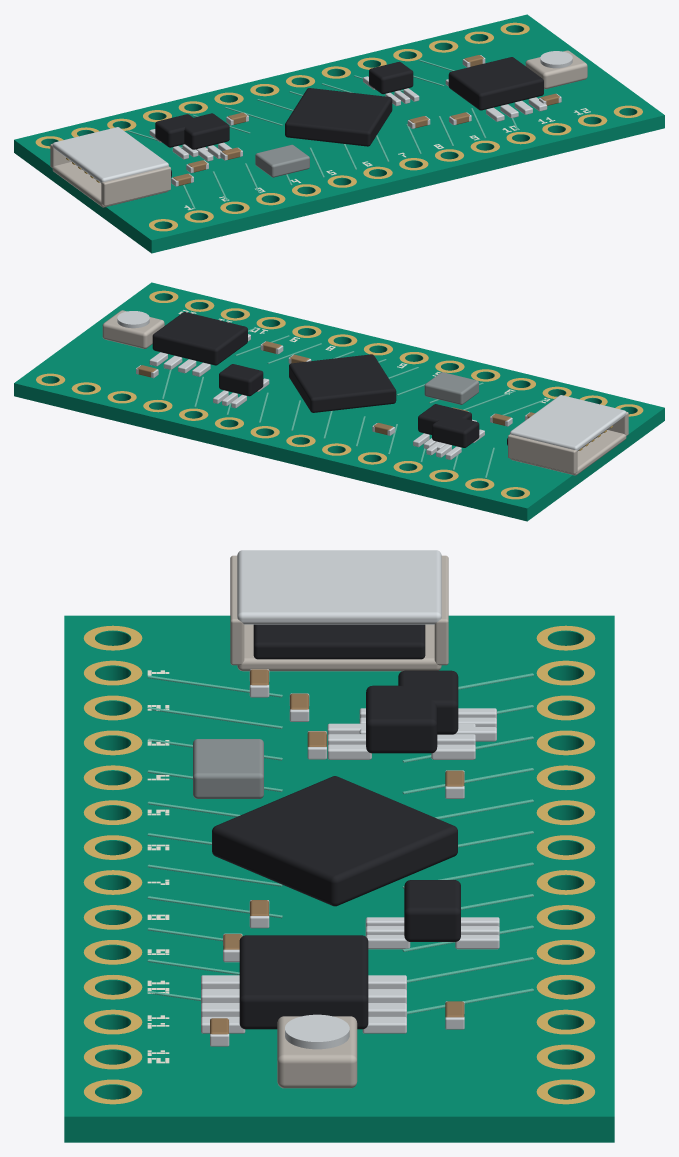
Rendered from boards-23.glb.
3 views of the same model, one above another, from view 1: azimuth 30°, elevation 25°; view 2: azimuth 150°, elevation 25°; view 3: azimuth 270°, elevation 25° (orthographic). The views are drawn at different scales.
Parts seen in each view (by area): view 1: pcb, usb, pads, fpga, flash, reset, power, clock; view 2: pcb, usb, pads, fpga, flash, reset, clock, power; view 3: pcb, usb, pads, fpga, flash, power, reset, clock.
Part boxes in pixels (x1,y1,x2,y2): pcb: (14,14,664,253); usb: (50,127,171,207); pads: (35,22,642,231); fpga: (285,88,392,146); flash: (445,57,547,121); reset: (525,50,587,89); power: (179,113,231,161); clock: (255,144,309,177); pcb: (14,282,664,521); usb: (507,395,628,475); pads: (36,290,643,499); fpga: (289,354,396,412); flash: (149,312,250,376); reset: (102,310,164,348); clock: (424,372,478,404); power: (413,404,476,450); pcb: (64,615,614,1142); usb: (230,550,448,671); pads: (83,625,595,1104); fpga: (212,776,457,906); flash: (201,935,406,1033); power: (327,685,475,759); reset: (277,1014,357,1088); clock: (193,739,263,798).
Size of the model in its own units: 2.7 by 0.2175 by 1.24.
